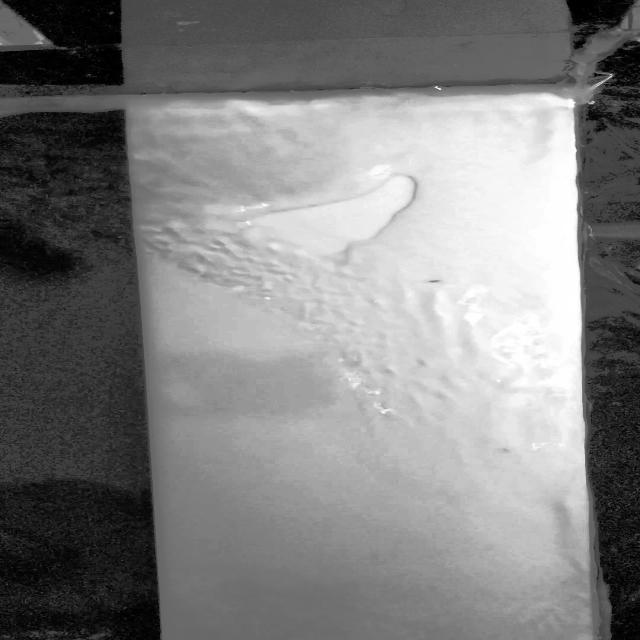shrimp: (404, 273, 468, 291)
